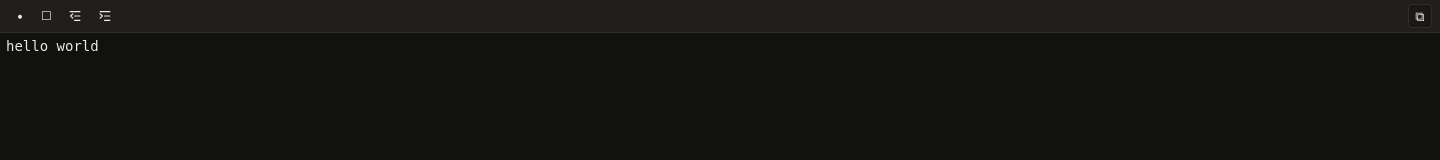
Test: NotesToolbar › Bullet prepends `- ` to the current line
The image size is (1440, 160).
Click the button named "Bullet list".
click(20, 16)  # box [8,4,32,28]
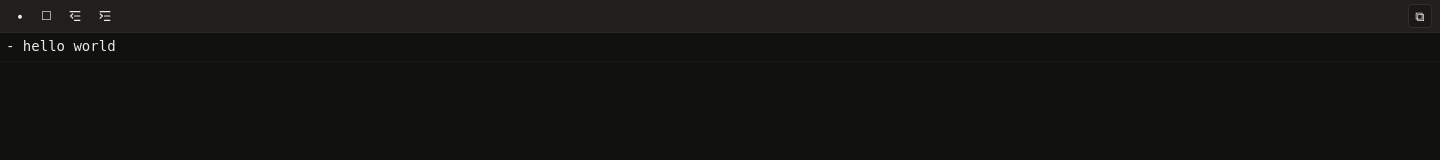
Now the text box labelled "- hello world" is shown, box [6,38,116,54]
